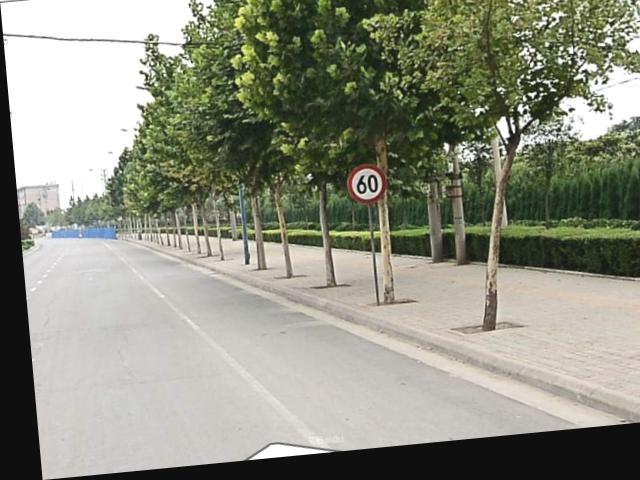limit60: (342, 167, 382, 212)
